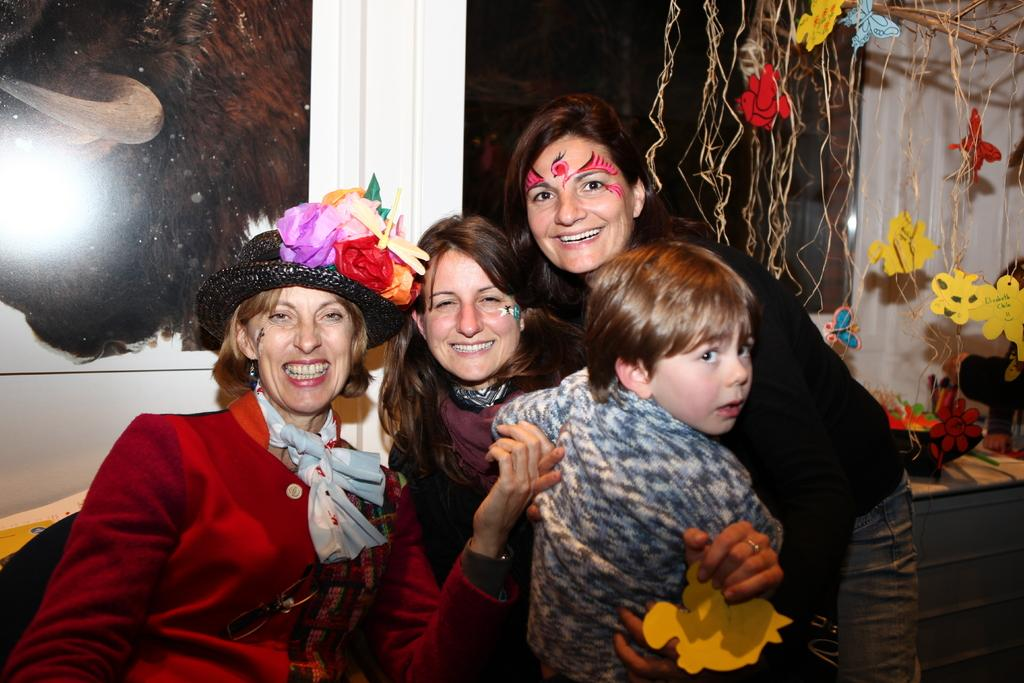Hat: (194, 170, 430, 350)
